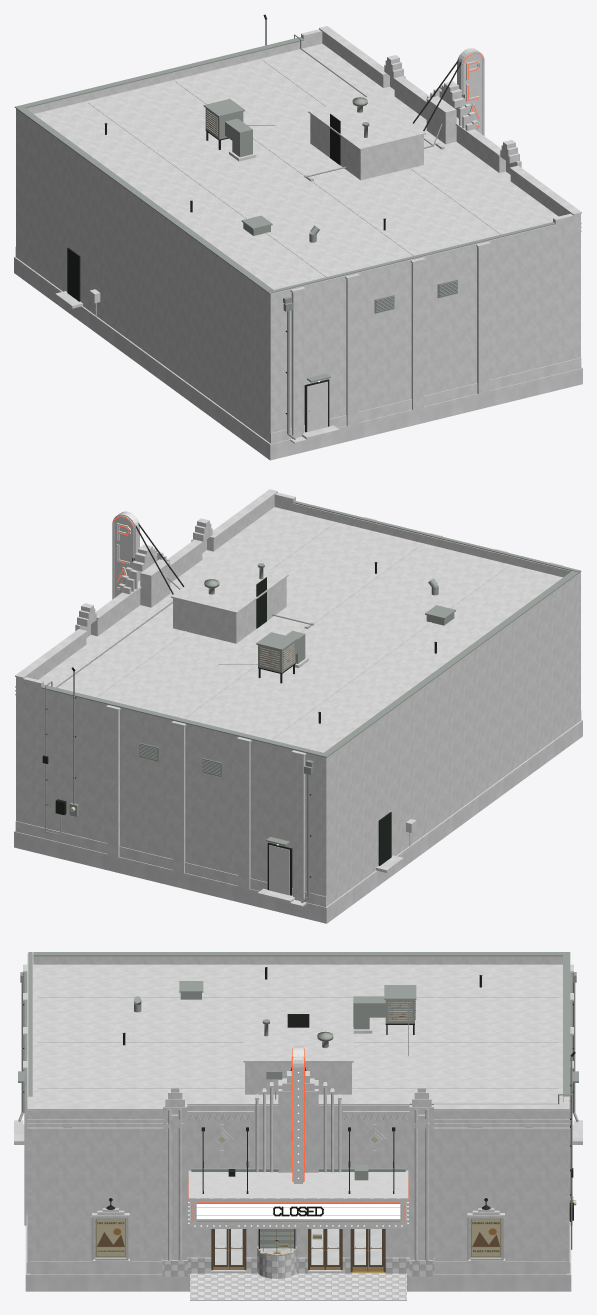
The model's file is Cinema.glb.
The picture shows the model from 3 angles, top to bottom: view 1: azimuth 30°, elevation 25°; view 2: azimuth 150°, elevation 25°; view 3: azimuth 270°, elevation 25°; orthographic projection. The views are drawn at different scales.
Parts seen in each view (by area): view 1: SM_Town_Cinema_Shell; view 2: SM_Town_Cinema_Shell; view 3: SM_Town_Cinema_Shell, SM_Town_Cinema_Fixtures.
Boxes of the visible parts, x1,y1,x2,y2 form: SM_Town_Cinema_Shell: (14, 14, 582, 460); SM_Town_Cinema_Shell: (14, 489, 582, 923); SM_Town_Cinema_Shell: (14, 952, 582, 1300); SM_Town_Cinema_Fixtures: (106, 1048, 490, 1255).
Bounding box in the file's own units: 17.2 × 10.36 × 21.22.
Materials: 34 (20 with a texture image).
